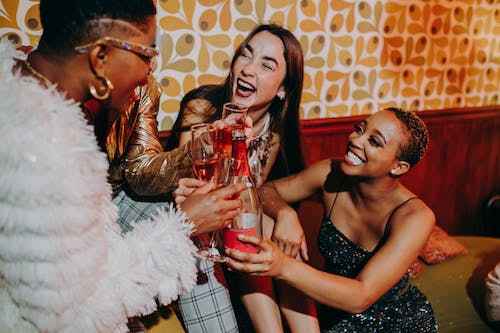alcohol: (189, 150, 246, 263), (222, 122, 263, 268), (220, 101, 249, 184), (190, 123, 219, 184)
